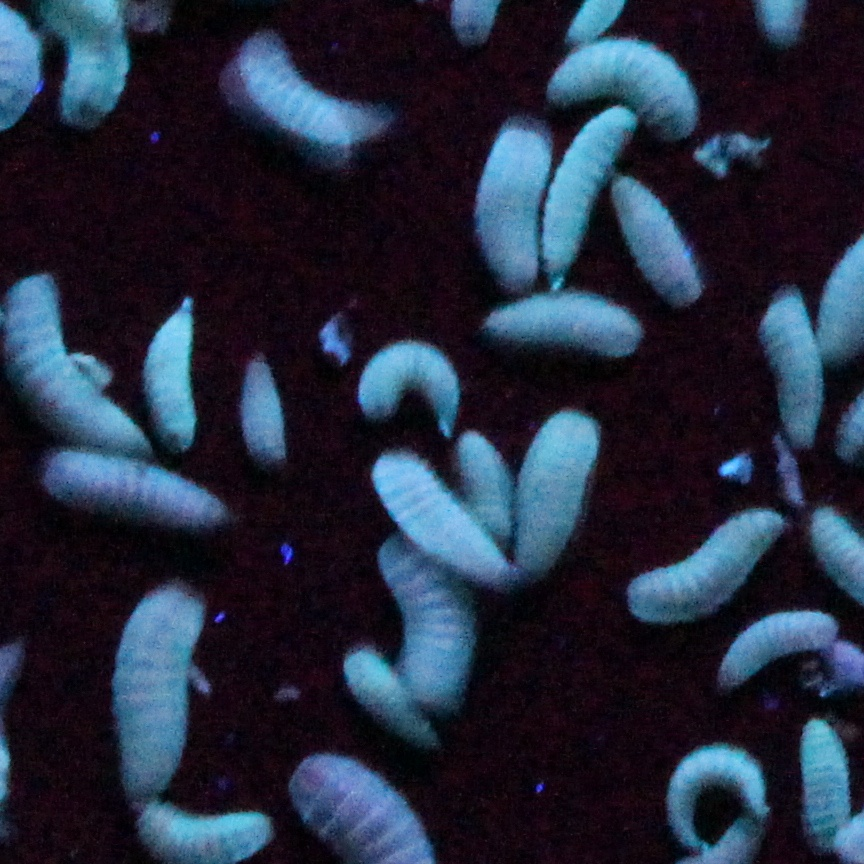larve: (6, 269, 143, 457), (366, 445, 514, 587), (113, 579, 205, 800), (621, 509, 786, 623), (243, 32, 394, 147), (377, 529, 470, 712), (514, 412, 599, 585), (47, 452, 228, 532), (557, 98, 630, 291), (555, 40, 694, 135), (479, 123, 547, 291), (616, 181, 706, 303), (663, 747, 770, 849), (761, 289, 830, 447), (484, 289, 635, 359), (348, 645, 437, 749), (728, 612, 834, 698), (360, 342, 455, 428), (140, 303, 196, 447), (452, 429, 521, 538), (803, 712, 850, 854), (238, 362, 296, 469)
